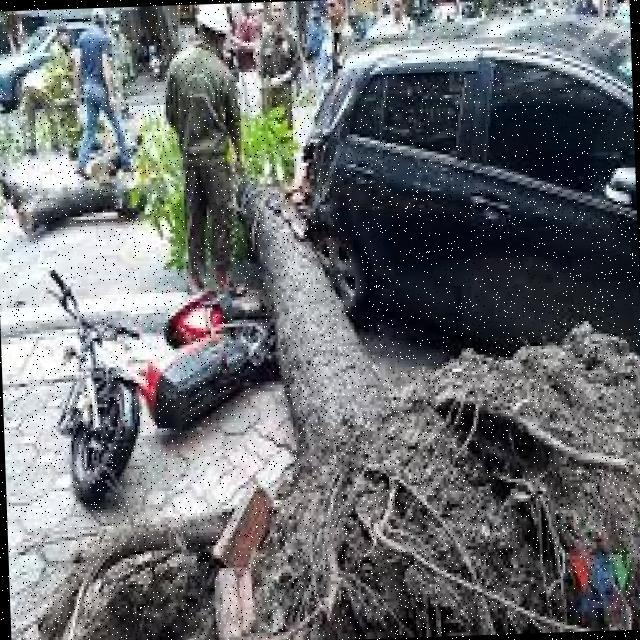fallen_object: (145, 92, 506, 634)
